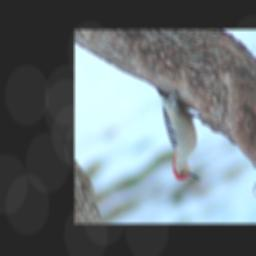Woodpecker: (154, 85, 202, 182)
